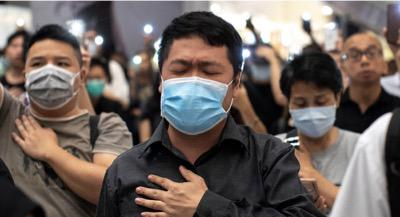with_mask: (162, 55, 233, 133), (24, 50, 82, 113), (289, 91, 338, 140), (248, 63, 270, 85), (86, 71, 105, 96)
without_mask: (345, 42, 383, 85), (6, 39, 26, 70)
